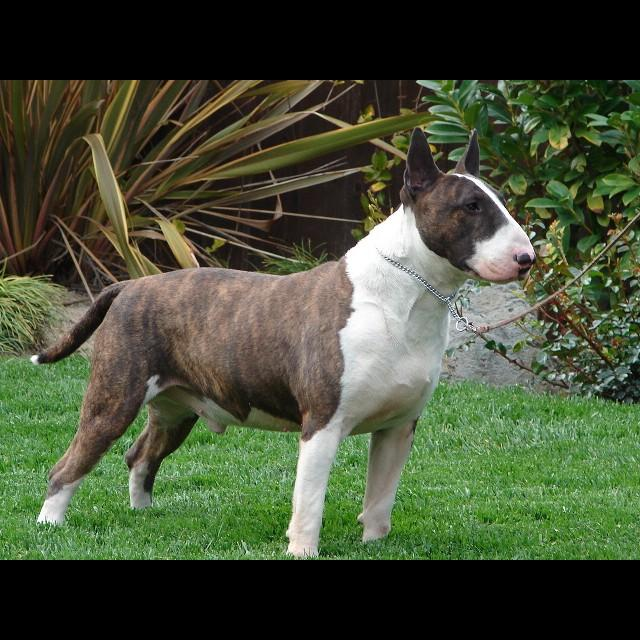bullterrier: (30, 127, 537, 560)
